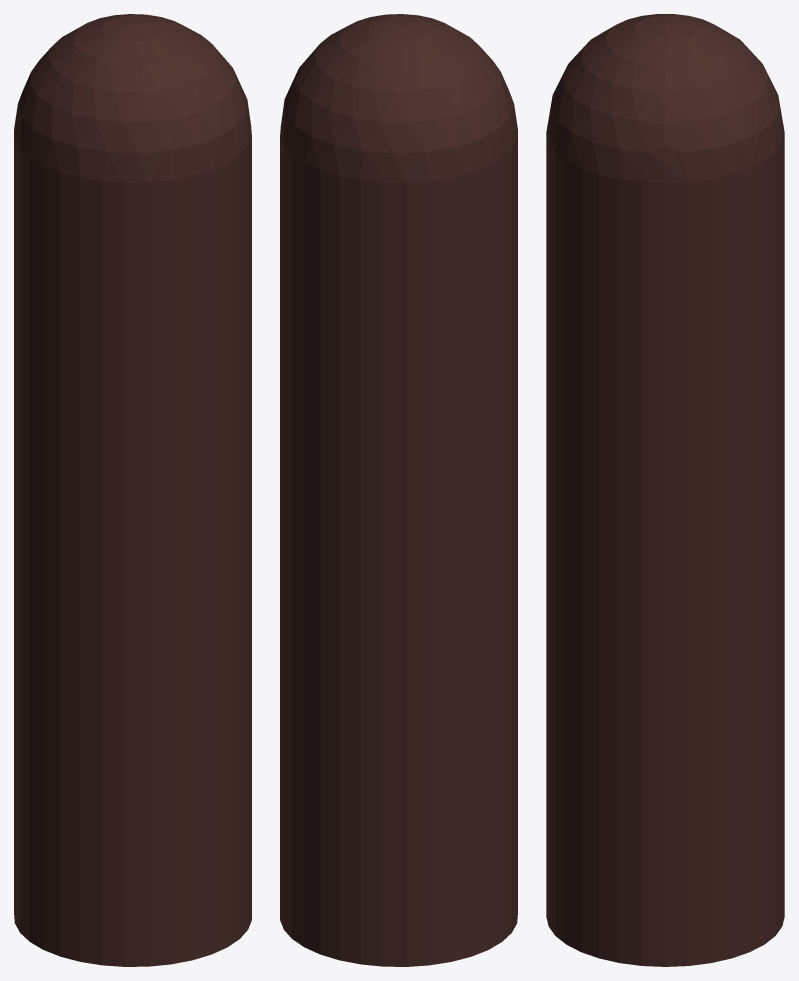
The picture shows the model from 3 angles, left to right: view 1: azimuth 30°, elevation 25°; view 2: azimuth 150°, elevation 25°; view 3: azimuth 270°, elevation 25°; orthographic projection.
Visible parts, largest first — view 1: 10250693; view 2: 10250693; view 3: 10250693.
Boxes of the visible parts, x1,y1,x2,y2 form: 10250693: (14, 14, 251, 966); 10250693: (280, 14, 517, 966); 10250693: (546, 14, 784, 966).
Size of the model in its own units: 0.2422 by 1 by 0.2422.
